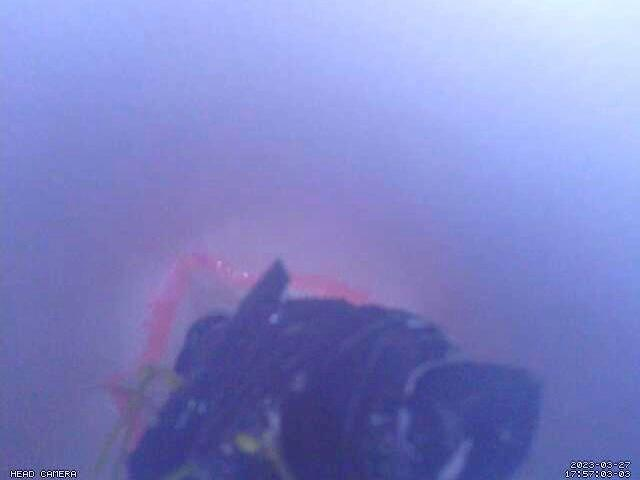head: (106, 251, 373, 452)
